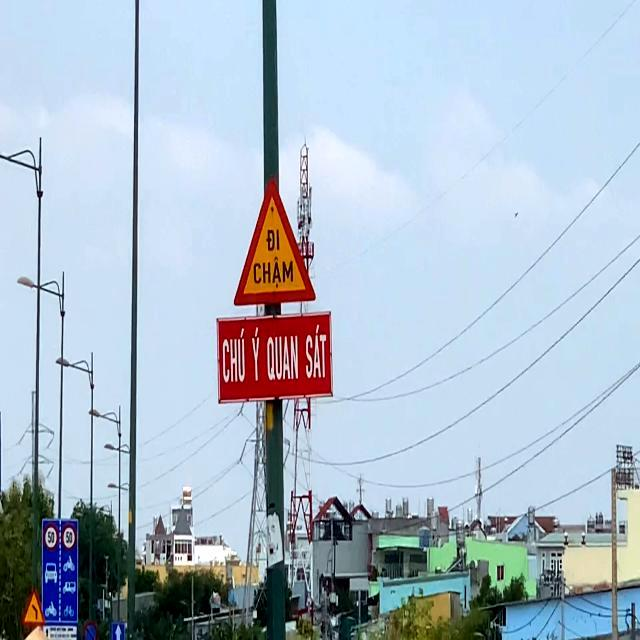Di cham: (234, 166, 326, 309)
cho ngoat nguy hiem vong ben trai: (20, 588, 48, 628)
